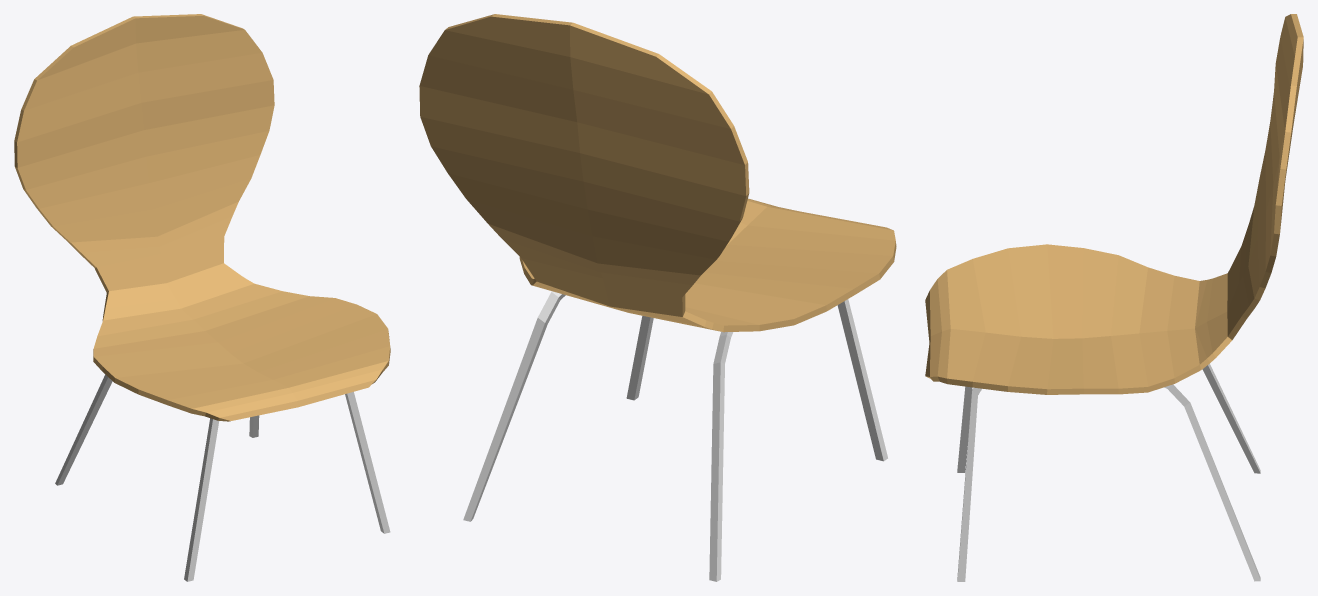
Rendered from rondeStoel.glb.
The picture shows the model from 3 angles, left to right: view 1: azimuth 30°, elevation 25°; view 2: azimuth 150°, elevation 25°; view 3: azimuth 270°, elevation 25°; orthographic projection. The views are drawn at different scales.
Visible parts, largest first — view 1: Plane, Cube.001; view 2: Plane, Cube.001; view 3: Plane, Cube.001.
Part boxes in pixels (x1,y1,x2,y2): Plane: (14,14,390,421); Cube.001: (55,374,390,581); Plane: (419,14,896,332); Cube.001: (463,291,887,581); Plane: (925,14,1303,394); Cube.001: (957,363,1260,581).
Size of the model in its own units: 0.6239 by 0.9732 by 0.6857.
